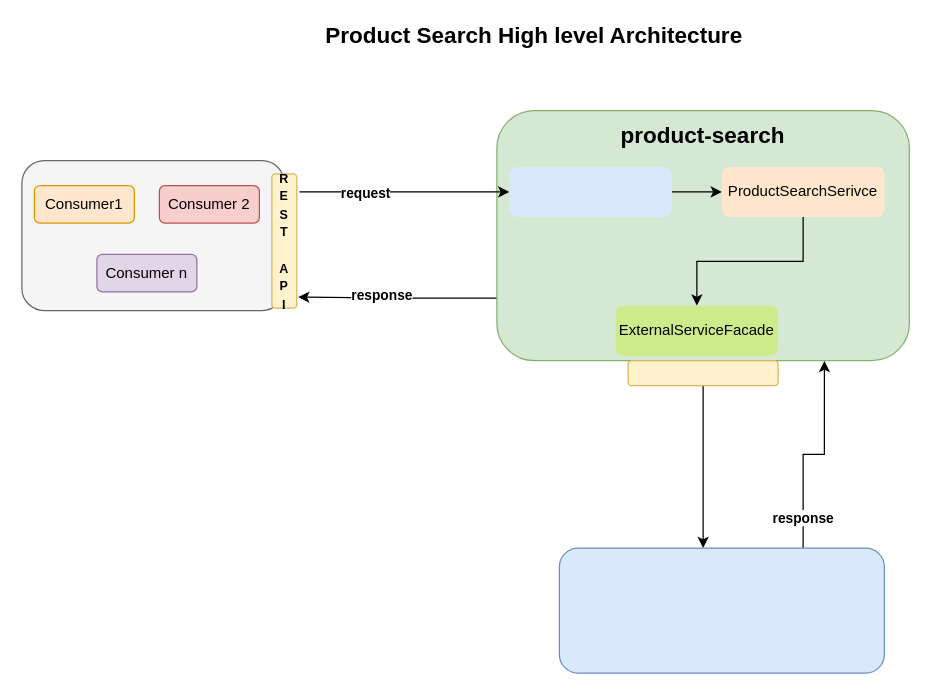
Some shapes in this 931 by 695 pixel diagram are drawn without their labels. The shapes that lost their labels are listed below. From the top down, each one's centre as x and y in pixels, then its label:
At point (590, 191): "ProductQueryController".
At point (702, 372): "REST API".
At point (721, 610): "mobile-handset-service (mock service)".
